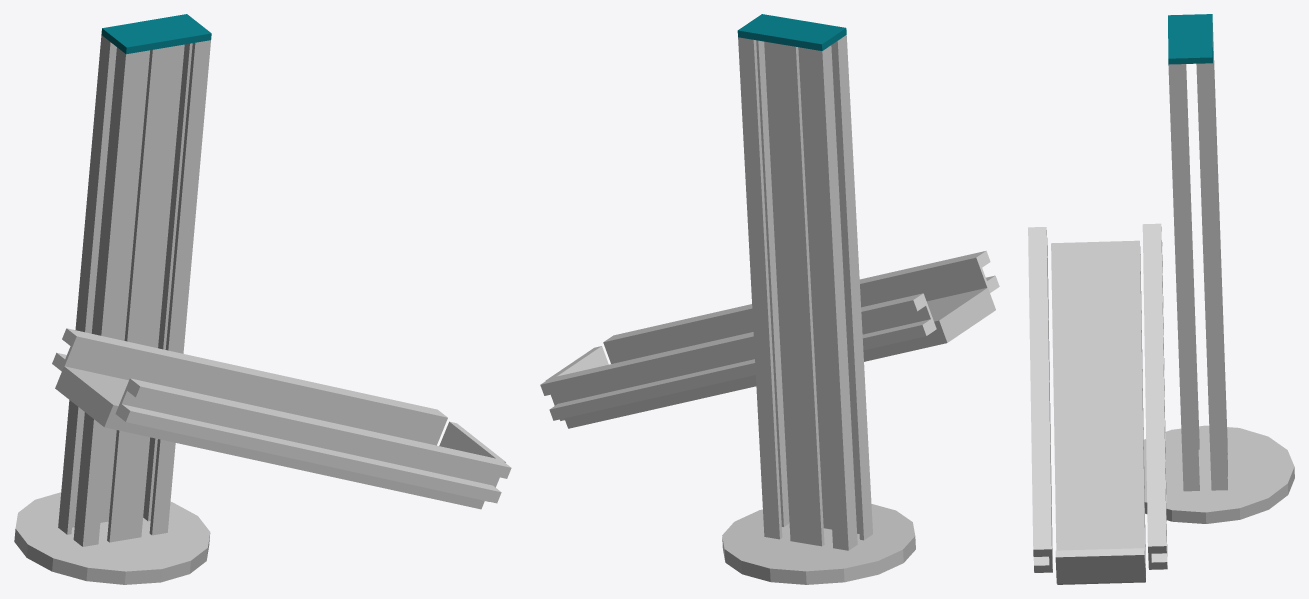
Rendered from slide.dae.
3 views of the same model, side by side, from view 1: azimuth 30°, elevation 25°; view 2: azimuth 150°, elevation 25°; view 3: azimuth 270°, elevation 25° (orthographic). The views are drawn at different scales.
Parts seen in each view (by area): view 1: ShapeIndexedFaceSet_630, ShapeIndexedFaceSet_681, ShapeIndexedFaceSet_646, ShapeIndexedFaceSet_680, ShapeIndexedFaceSet_679, ShapeIndexedFaceSet_692, ShapeIndexedFaceSet_637, ShapeIndexedFaceSet_638, ShapeIndexedFaceSet_634, ShapeIndexedFaceSet_636, ShapeIndexedFaceSet_678, ShapeIndexedFaceSet_629 (+7 smaller); view 2: ShapeIndexedFaceSet_629, ShapeIndexedFaceSet_633, ShapeIndexedFaceSet_646, ShapeIndexedFaceSet_635, ShapeIndexedFaceSet_638, ShapeIndexedFaceSet_692, ShapeIndexedFaceSet_637, ShapeIndexedFaceSet_679, ShapeIndexedFaceSet_683, ShapeIndexedFaceSet_682, ShapeIndexedFaceSet_630, ShapeIndexedFaceSet_640 (+5 smaller); view 3: ShapeIndexedFaceSet_692, ShapeIndexedFaceSet_646, ShapeIndexedFaceSet_640, ShapeIndexedFaceSet_679, ShapeIndexedFaceSet_683, ShapeIndexedFaceSet_639, ShapeIndexedFaceSet_695, ShapeIndexedFaceSet_633, ShapeIndexedFaceSet_645, ShapeIndexedFaceSet_678, ShapeIndexedFaceSet_681, ShapeIndexedFaceSet_638 (+4 smaller).
Boxes of the visible parts, x1,y1,x2,y2 form: ShapeIndexedFaceSet_630: [107, 44, 184, 542]; ShapeIndexedFaceSet_681: [60, 335, 447, 445]; ShapeIndexedFaceSet_646: [14, 492, 210, 584]; ShapeIndexedFaceSet_680: [117, 404, 501, 503]; ShapeIndexedFaceSet_679: [127, 380, 511, 478]; ShapeIndexedFaceSet_692: [55, 366, 484, 509]; ShapeIndexedFaceSet_637: [58, 35, 114, 534]; ShapeIndexedFaceSet_638: [73, 47, 130, 546]; ShapeIndexedFaceSet_634: [149, 41, 206, 535]; ShapeIndexedFaceSet_636: [87, 51, 141, 546]; ShapeIndexedFaceSet_678: [115, 378, 502, 485]; ShapeIndexedFaceSet_629: [100, 50, 149, 522]; ShapeIndexedFaceSet_629: [764, 41, 824, 546]; ShapeIndexedFaceSet_633: [738, 37, 782, 539]; ShapeIndexedFaceSet_646: [722, 504, 915, 584]; ShapeIndexedFaceSet_635: [806, 48, 848, 550]; ShapeIndexedFaceSet_638: [833, 35, 872, 540]; ShapeIndexedFaceSet_692: [564, 287, 995, 428]; ShapeIndexedFaceSet_637: [822, 45, 857, 550]; ShapeIndexedFaceSet_679: [603, 250, 990, 353]; ShapeIndexedFaceSet_683: [540, 294, 925, 395]; ShapeIndexedFaceSet_682: [549, 319, 934, 420]; ShapeIndexedFaceSet_630: [798, 47, 831, 529]; ShapeIndexedFaceSet_640: [756, 40, 789, 526]; ShapeIndexedFaceSet_692: [1051, 240, 1145, 584]; ShapeIndexedFaceSet_646: [1143, 425, 1294, 523]; ShapeIndexedFaceSet_640: [1168, 64, 1199, 491]; ShapeIndexedFaceSet_679: [1028, 227, 1052, 556]; ShapeIndexedFaceSet_683: [1145, 223, 1166, 553]; ShapeIndexedFaceSet_639: [1196, 63, 1223, 490]; ShapeIndexedFaceSet_695: [1055, 548, 1145, 583]; ShapeIndexedFaceSet_633: [1208, 63, 1227, 490]; ShapeIndexedFaceSet_645: [1168, 14, 1212, 64]; ShapeIndexedFaceSet_678: [1043, 227, 1052, 565]; ShapeIndexedFaceSet_681: [1142, 224, 1151, 562]; ShapeIndexedFaceSet_638: [1185, 64, 1199, 449].
Size of the model in its own units: 0.1893 by 0.1201 by 0.2335.
